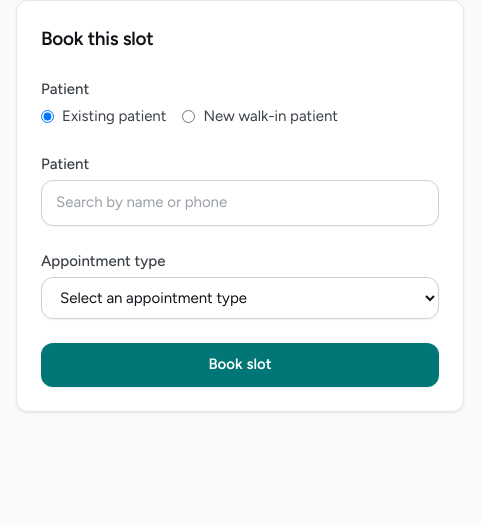
Scenario: BookSlotForm › shows the SLOT_ALREADY_BOOKED error message
Step 1. Type "Asha" into the dropdown labelled "Patient" → [240, 203], box [41,180,439,226]
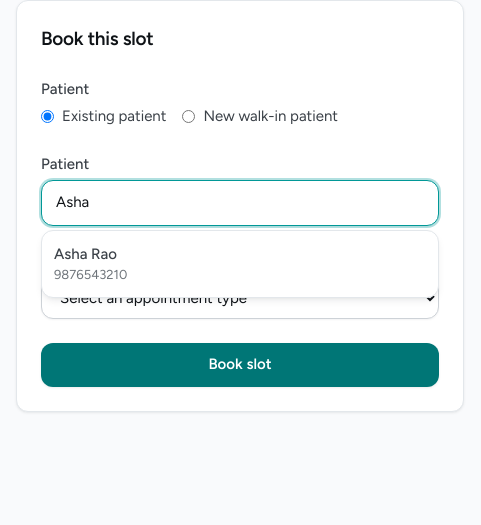
Expected: the option "Asha Rao 9876543210" is shown
Step 2. Click the option "Asha Rao 9876543210" → [91, 264], box [54,245,127,282]
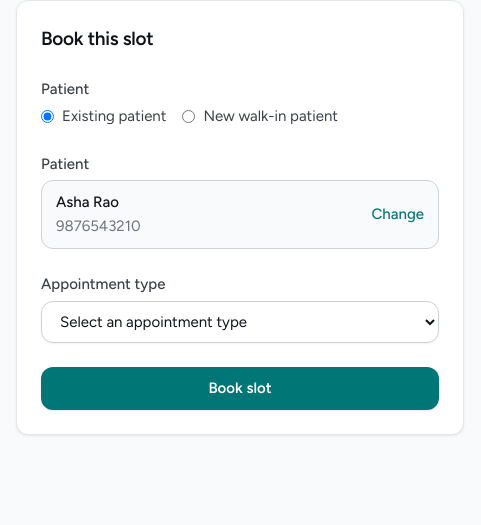
Step 3. Select "General consult" in the dropdown labelled "Appointment type" → [240, 322], box [41,301,439,343]
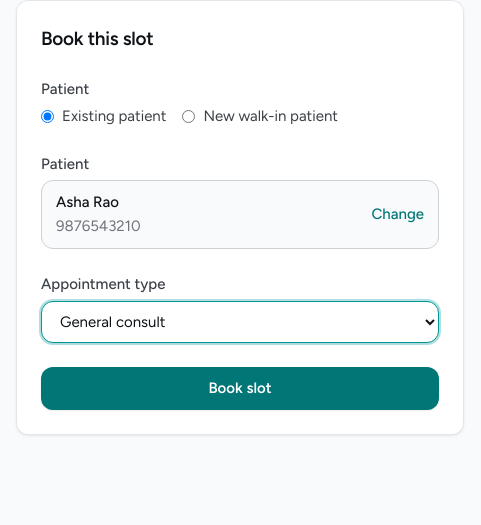
Step 4. Click the button "Book slot" → [240, 389], box [41,367,439,410]
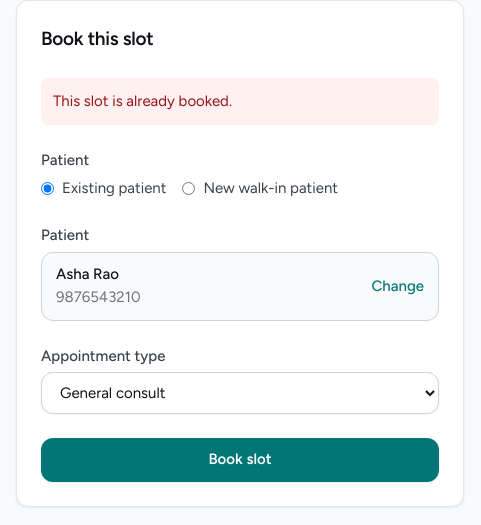
Expected: the message shows "already booked", [53,92,232,110]
